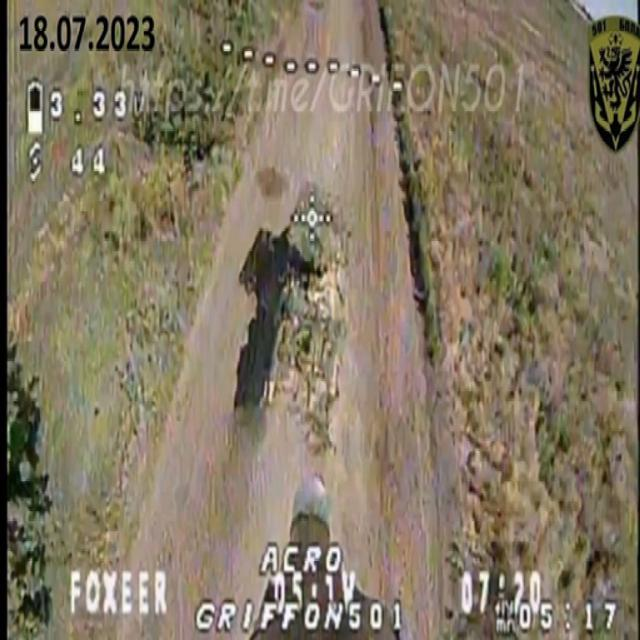APC-IFV: (248, 162, 362, 456)
